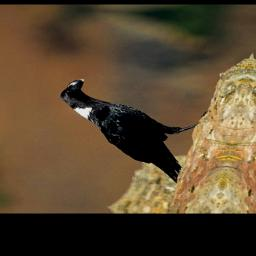Crow: (40, 76, 214, 184)
